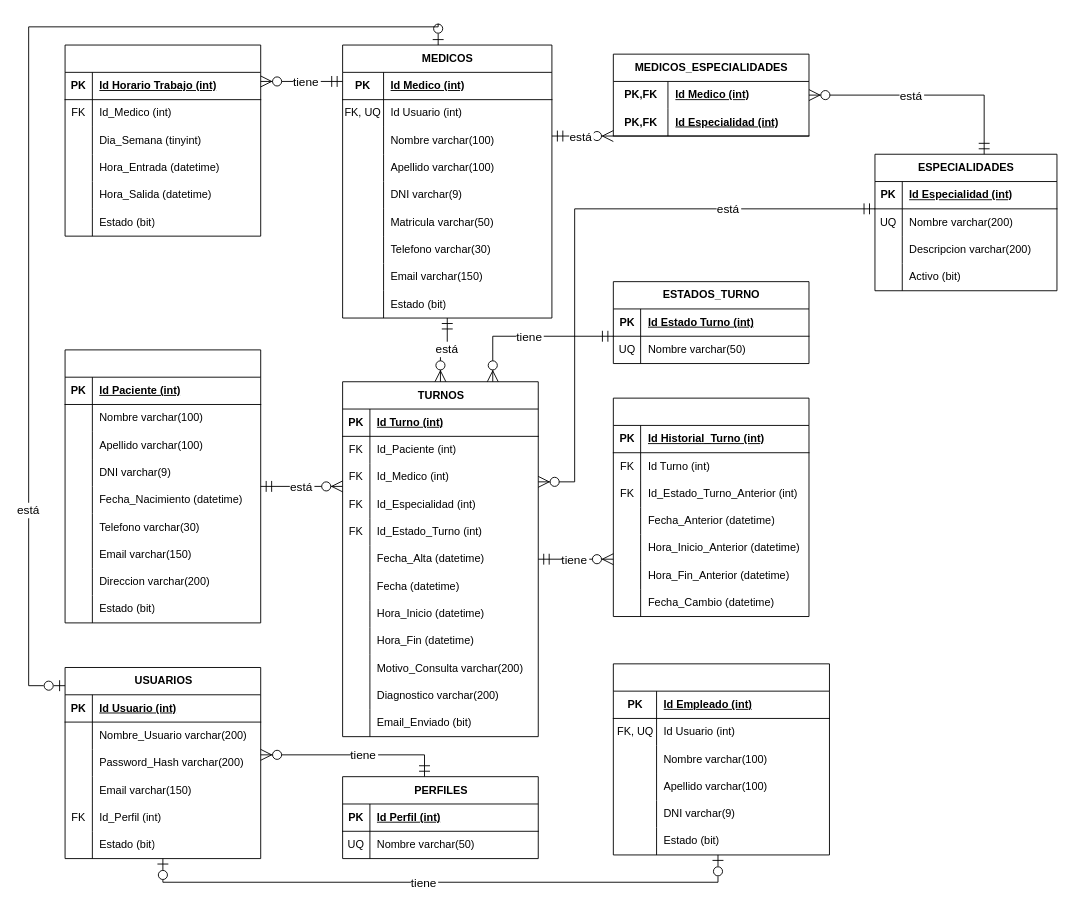
Some shapes in this 1073 by 910 pixel diagram are drawn without their labels. Here are the shapes that lost their labels. From the top down, the box of each, then its label:
(64, 44, 261, 236): HORARIOS_TRABAJO
(64, 349, 261, 623): PACIENTES
(612, 397, 809, 617): HISTORIAL_TURNOS
(612, 663, 829, 855): EMPLEADOS
